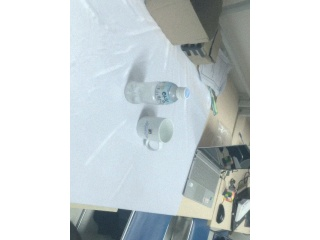bottle: (124, 81, 190, 105)
box: (144, 1, 222, 45)
cup: (136, 116, 174, 151)
